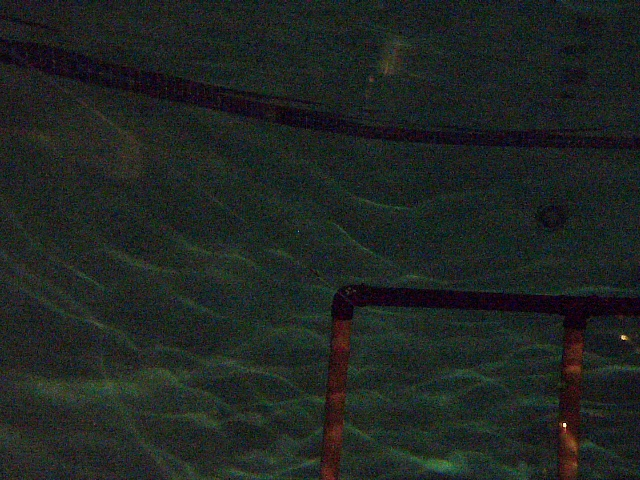Gate: (556, 310, 586, 480), (325, 309, 351, 480)
